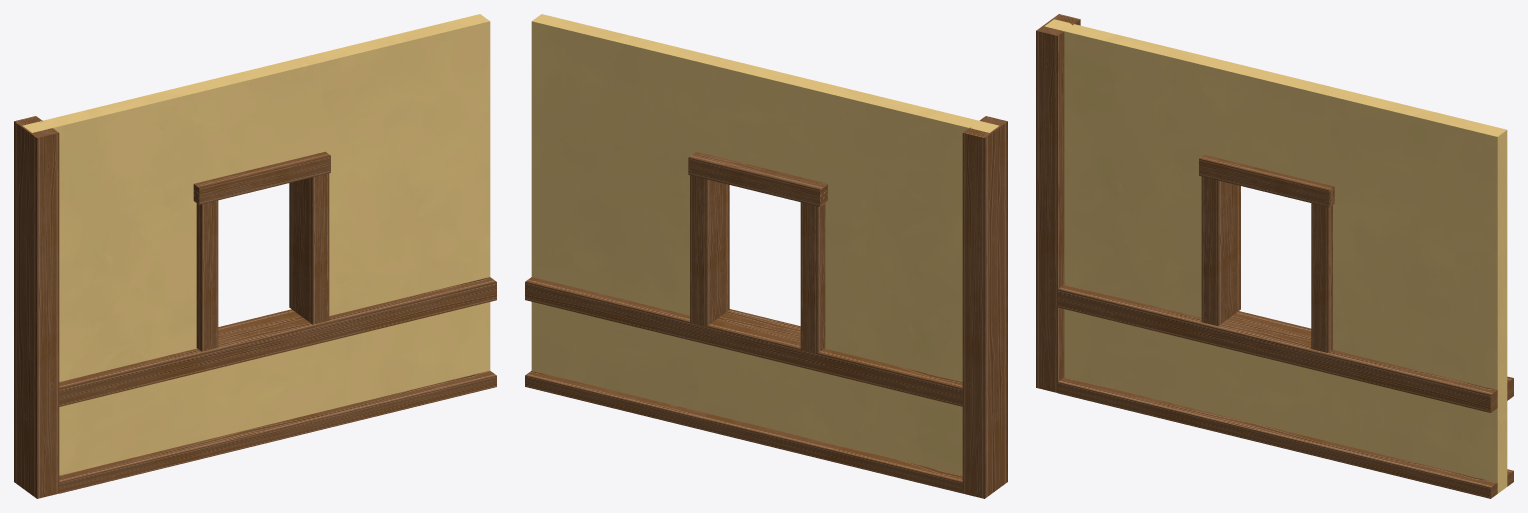
File: SM_Window_Wall_01_wsand.glb
3 renders of one model, left to right at view 1: azimuth 30°, elevation 25°; view 2: azimuth 150°, elevation 25°; view 3: azimuth 330°, elevation 25°, orthographic.
Parts seen in each view (by area): view 1: SM_Window_Wall_01; view 2: SM_Window_Wall_01; view 3: SM_Window_Wall_01.
Boxes of the visible parts, box(x1,y1,x2,y2) form: SM_Window_Wall_01: box(14, 14, 496, 498); SM_Window_Wall_01: box(525, 14, 1007, 498); SM_Window_Wall_01: box(1036, 14, 1513, 498).
Size of the model in its own units: 4 by 3 by 0.3736.
2 materials, 2 textured.
